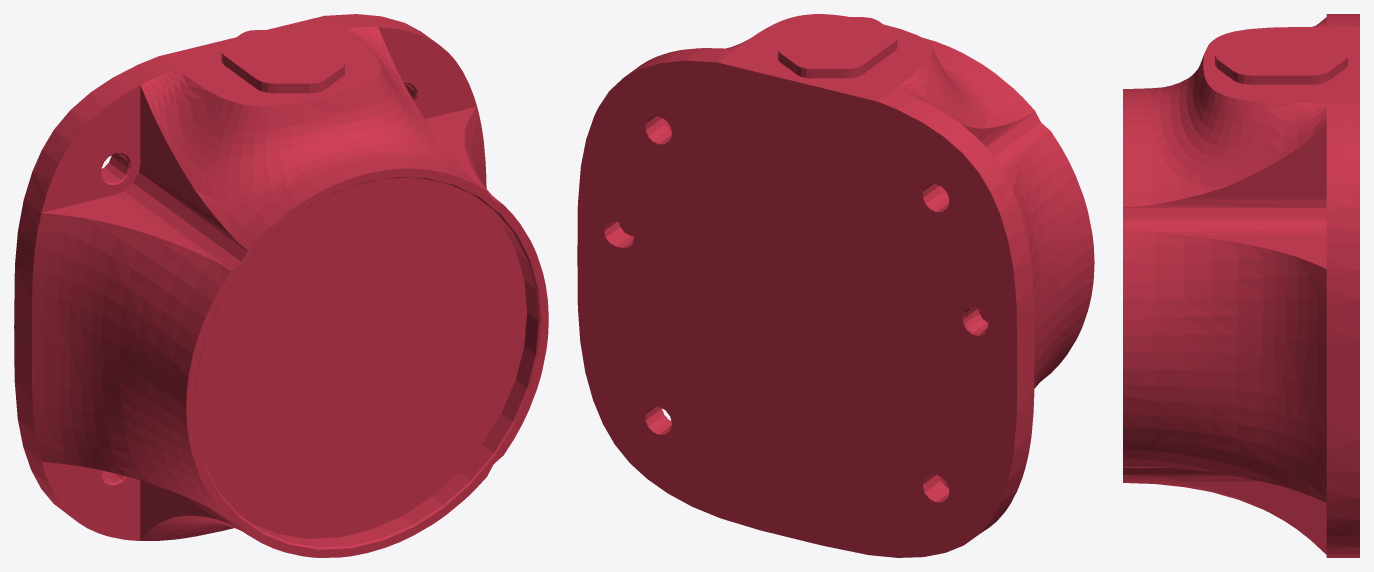
The picture shows the model from 3 angles, left to right: view 1: azimuth 30°, elevation 25°; view 2: azimuth 150°, elevation 25°; view 3: azimuth 270°, elevation 25°; orthographic projection. The views are drawn at different scales.
Parts seen in each view (by area): view 1: base_link-mesh; view 2: base_link-mesh; view 3: base_link-mesh.
Boxes of the visible parts, box(x1,y1,x2,y2) form: base_link-mesh: box(14, 14, 548, 557); base_link-mesh: box(577, 14, 1094, 557); base_link-mesh: box(1123, 14, 1359, 557).
Size of the model in its own units: 0.148 by 0.1501 by 0.071.
